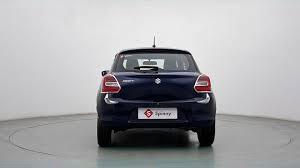Swift: (93, 34, 219, 148)
